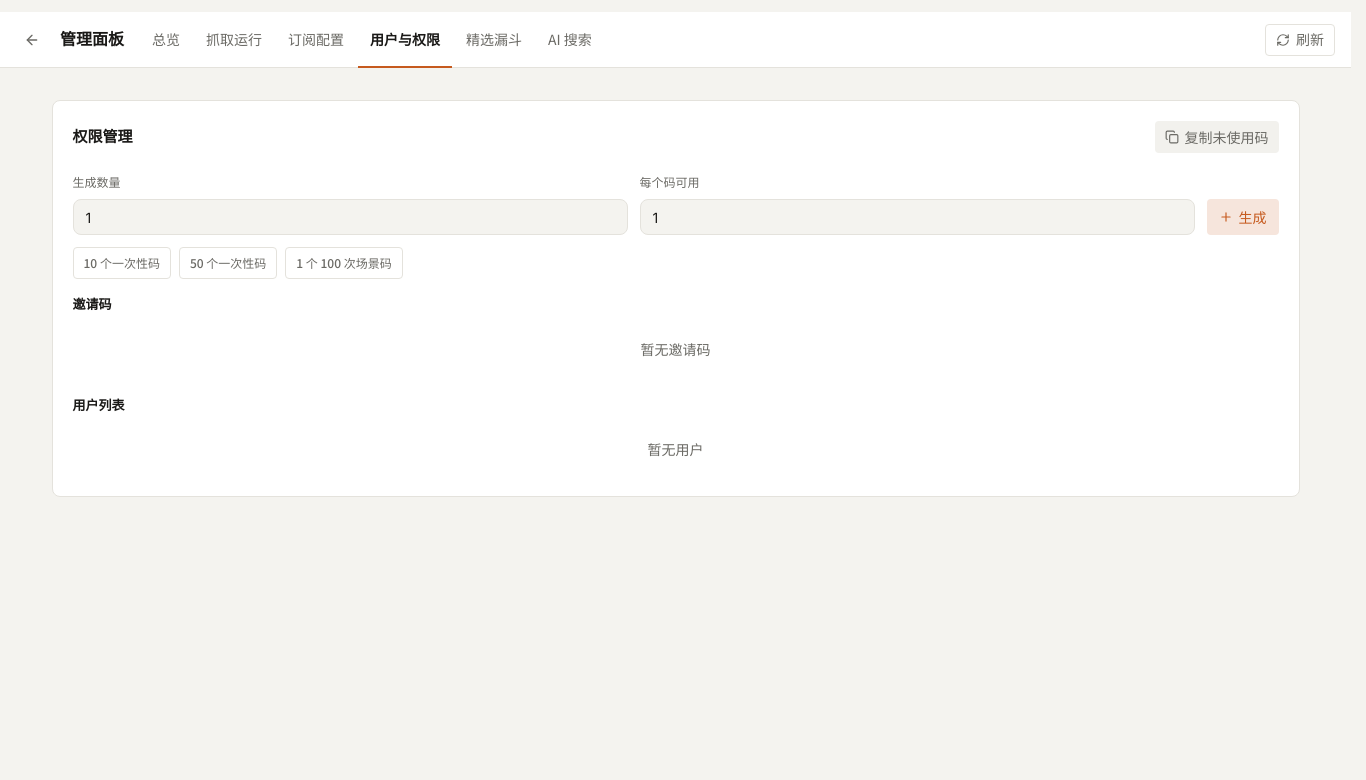
Test: AdminPage fetch runs › generates invite codes with selected count and max uses
Check: the heading "权限管理" is shown, box 72,126 -> 132,148
Replace the text in the number field labelled "生成数量" with "3" at (350, 217), box 72,199 -> 628,235
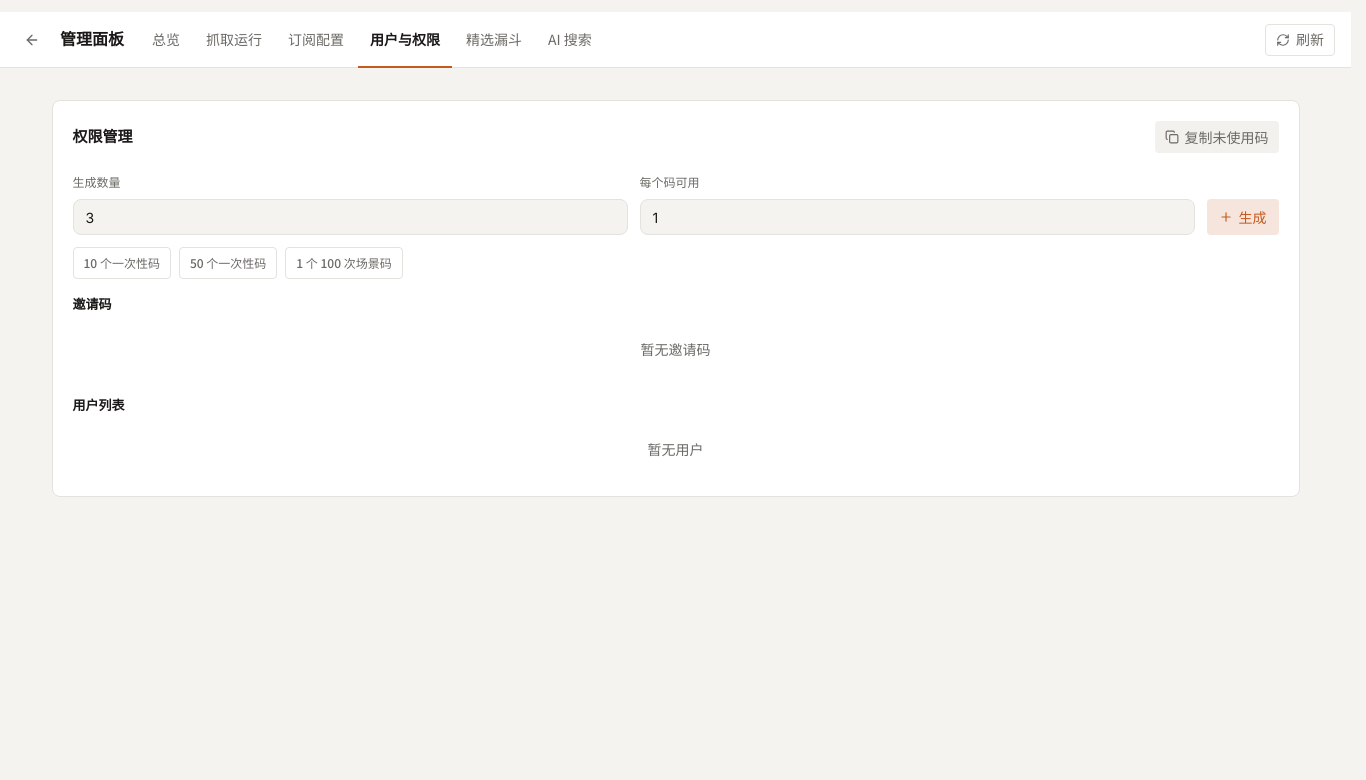
Replace the text in the number field labelled "每个码可用" with "2" at (917, 217), box 640,199 -> 1194,235
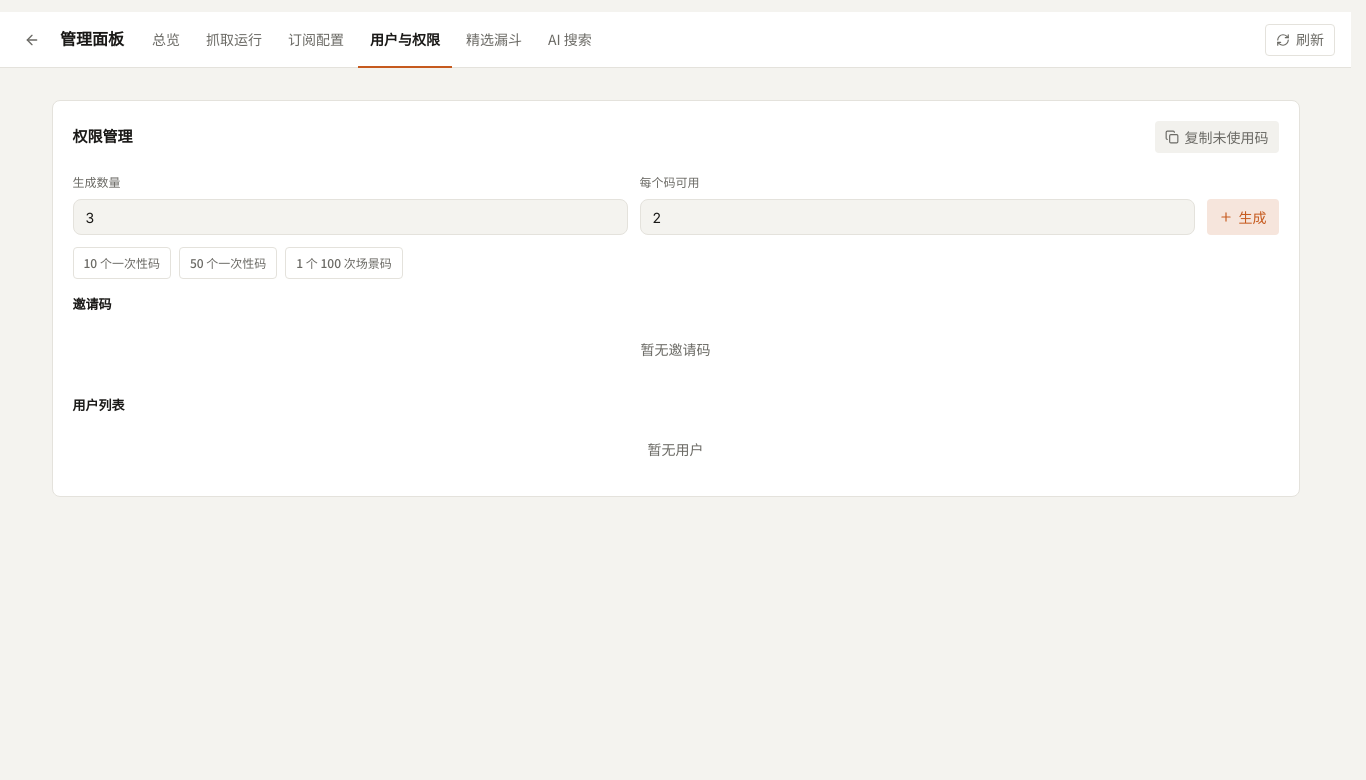
Click the button "生成" at (1242, 217), box 1206,199 -> 1278,235
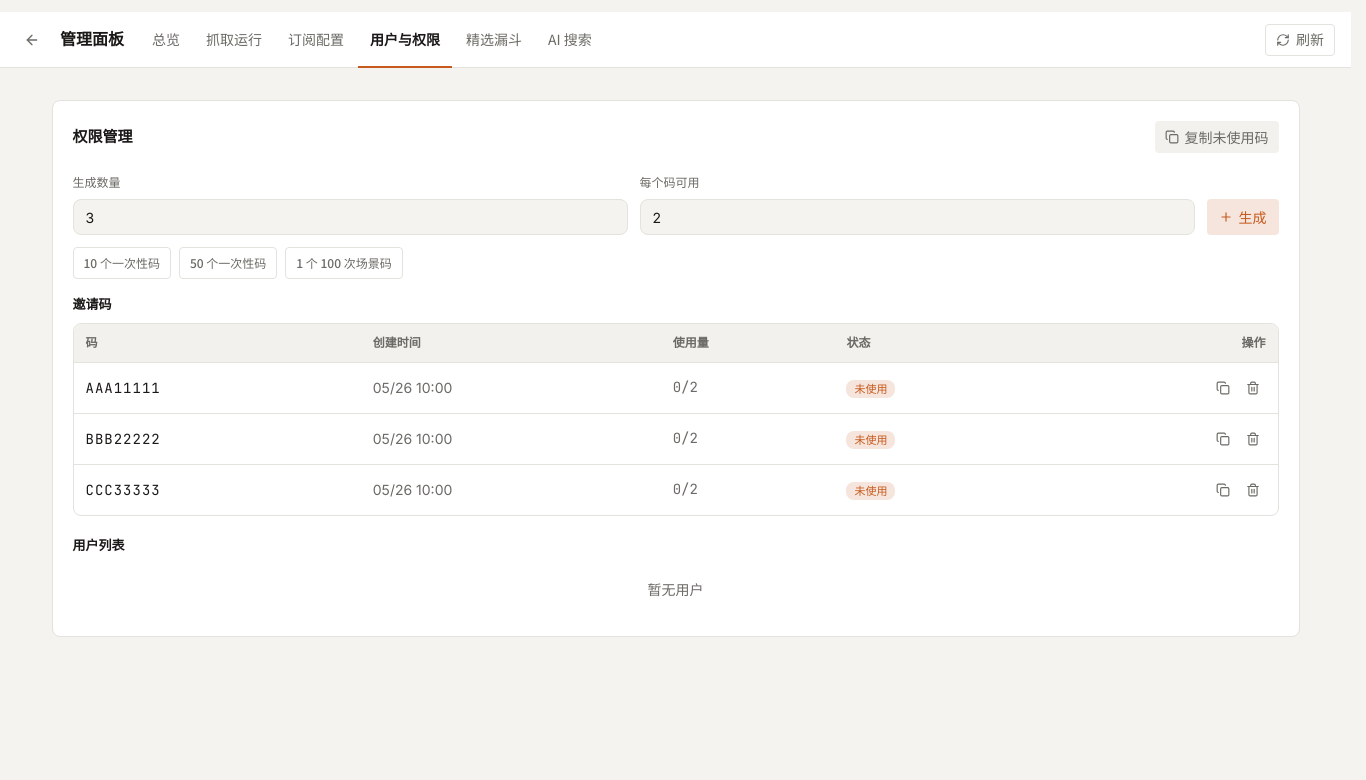
Check: the text "AAA11111" is shown, box 86,378 -> 161,396
Check: the text "0/2" is shown 3 times, box 661,362 -> 834,413; 661,413 -> 834,464; 661,464 -> 834,514
